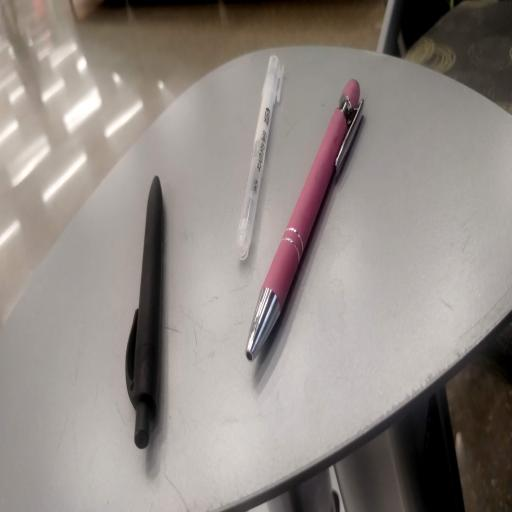pen: (246, 80, 362, 360), (126, 177, 163, 448), (236, 56, 284, 260)
